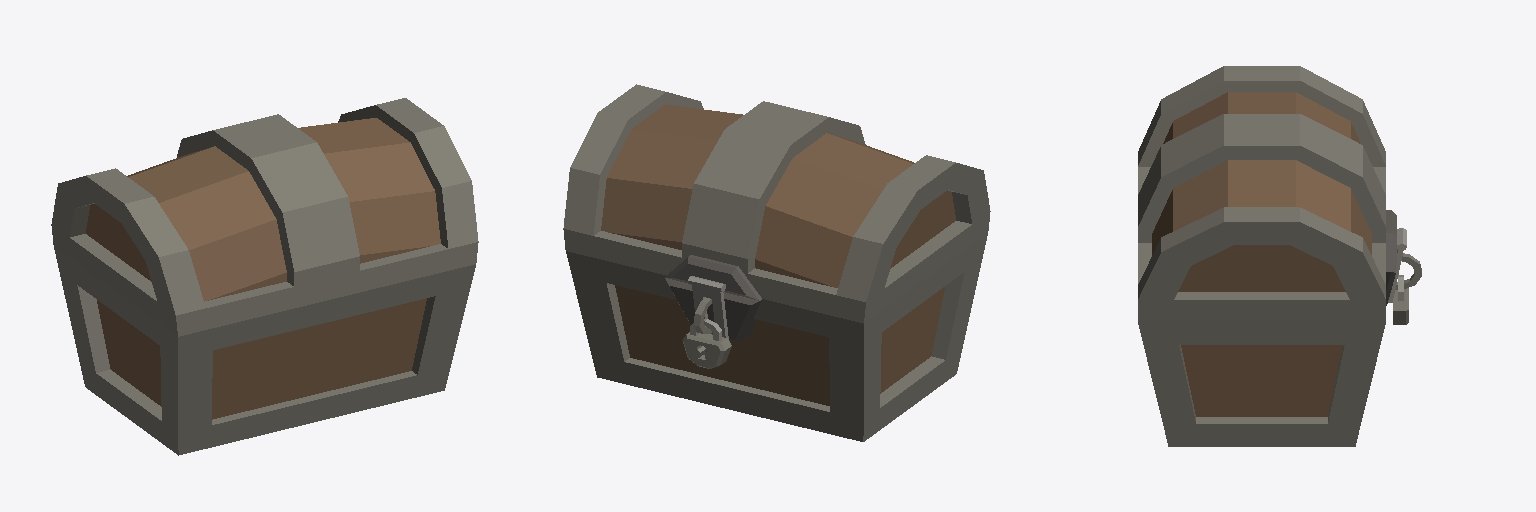
File: treasure_chest.obj
The picture shows the model from 3 angles: view 1: azimuth 30°, elevation 25°; view 2: azimuth 150°, elevation 25°; view 3: azimuth 270°, elevation 25°; orthographic projection.
Visible parts, largest first — view 1: Prop_Treasure_Chest_2; view 2: Prop_Treasure_Chest_2; view 3: Prop_Treasure_Chest_2.
Part boxes in pixels (x1,y1,x2,y2): Prop_Treasure_Chest_2: (51,98,478,455); Prop_Treasure_Chest_2: (563,84,990,441); Prop_Treasure_Chest_2: (1138,66,1421,446).
Size of the model in its own units: 0.9714 by 0.7334 by 0.7495.